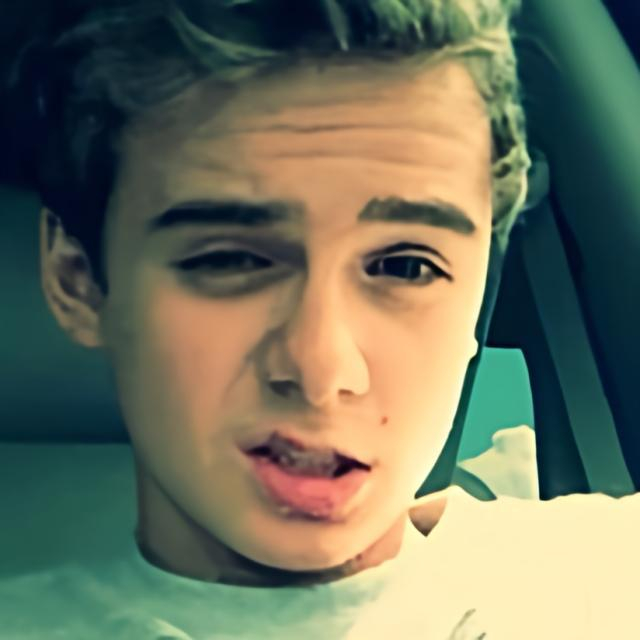disgust: (104, 35, 498, 572)
